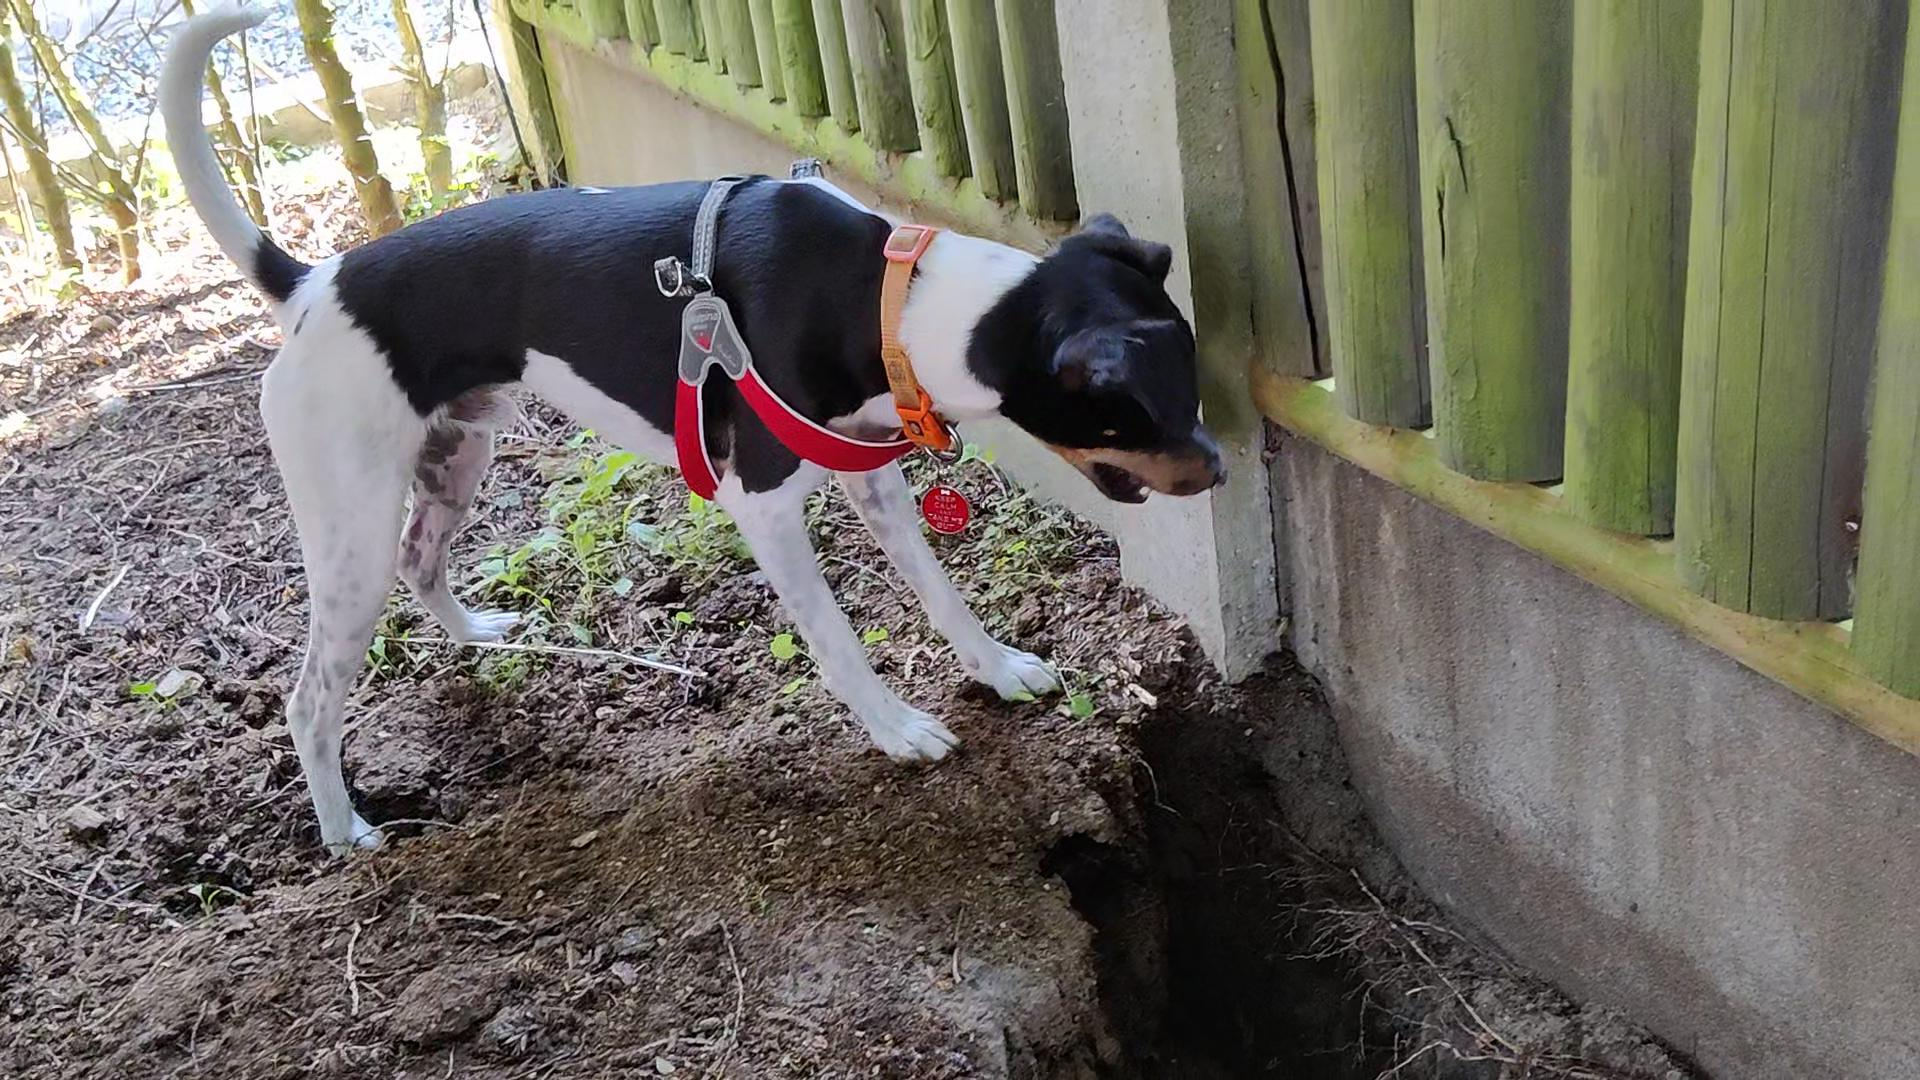Dog: (135, 0, 1250, 868)
